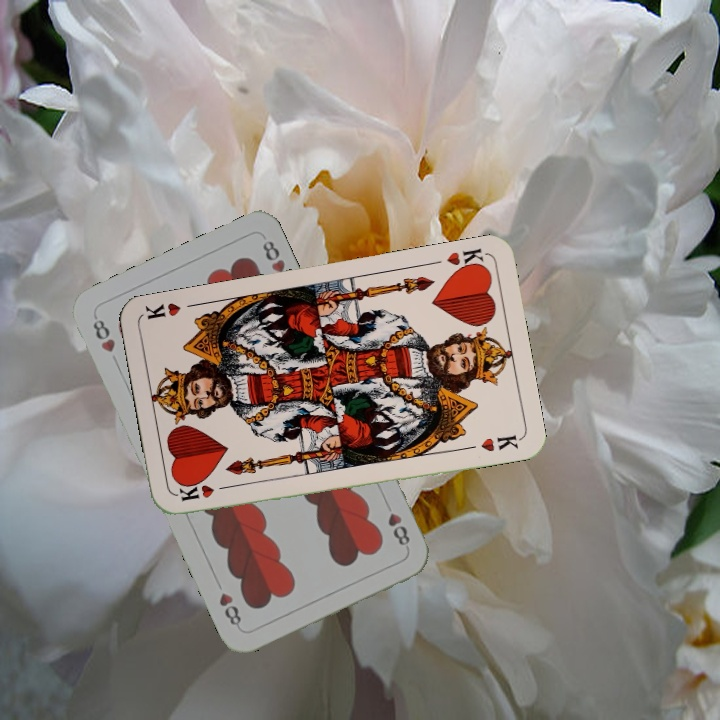H8: (380, 496, 413, 548), (88, 311, 118, 355)
HK: (443, 244, 489, 275), (174, 480, 234, 503)
